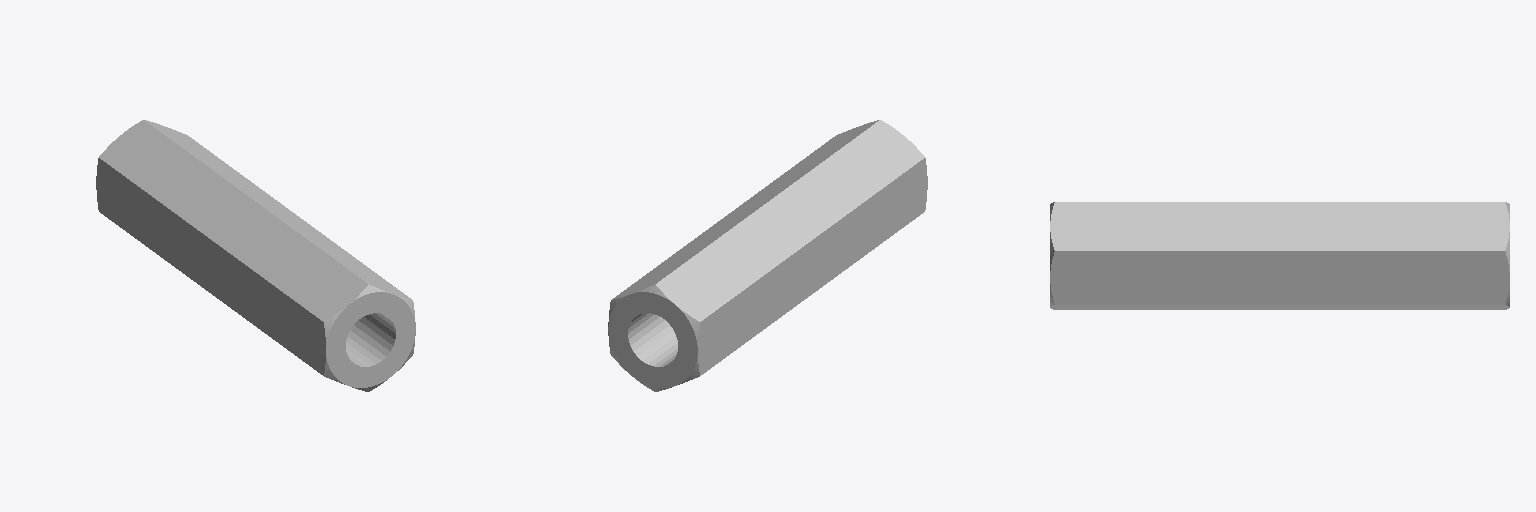
File: M3x20-standoff.obj
3 views of the same model, side by side, from view 1: azimuth 30°, elevation 25°; view 2: azimuth 150°, elevation 25°; view 3: azimuth 270°, elevation 25° (orthographic).
Parts seen in each view (by area): view 1: Body1; view 2: Body1; view 3: Body1.
Boxes of the visible parts, box(x1,y1,x2,y2) form: Body1: box(96, 120, 415, 391); Body1: box(608, 120, 927, 391); Body1: box(1050, 202, 1509, 309).
Bounding box in the file's own units: 0.45 × 0.5196 × 2.